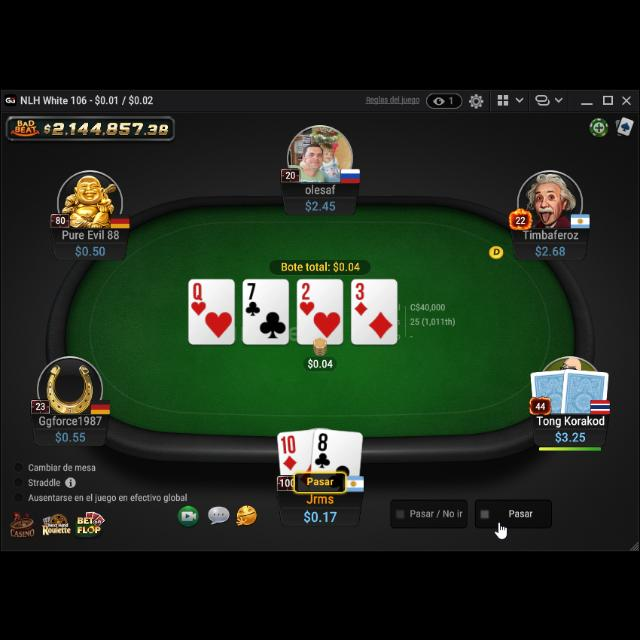2h: (298, 280, 316, 316)
3d: (352, 281, 368, 317)
7c: (244, 278, 262, 316)
8c: (314, 429, 332, 467)
Qh: (190, 280, 207, 316)
Td: (281, 432, 299, 470)
bet_text: (306, 354, 334, 368)
card_back: (560, 363, 610, 413), (530, 364, 570, 412)
dealer: (487, 240, 505, 258)
pot_text: (282, 258, 364, 272)
stack_text: (302, 504, 338, 522), (304, 195, 338, 209), (555, 426, 587, 440), (75, 240, 107, 254), (534, 241, 566, 255), (55, 427, 87, 441)
